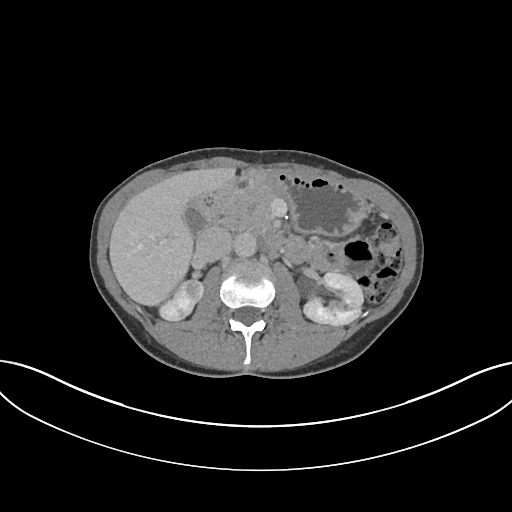Lesion: (184, 280, 205, 301)
